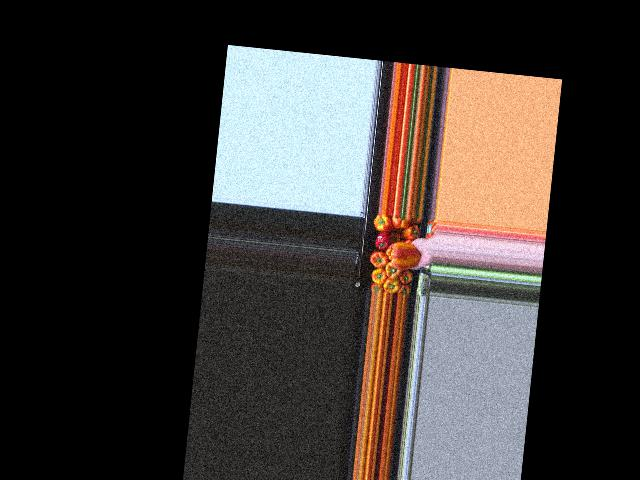bell_pepper: (402, 222, 418, 241)
